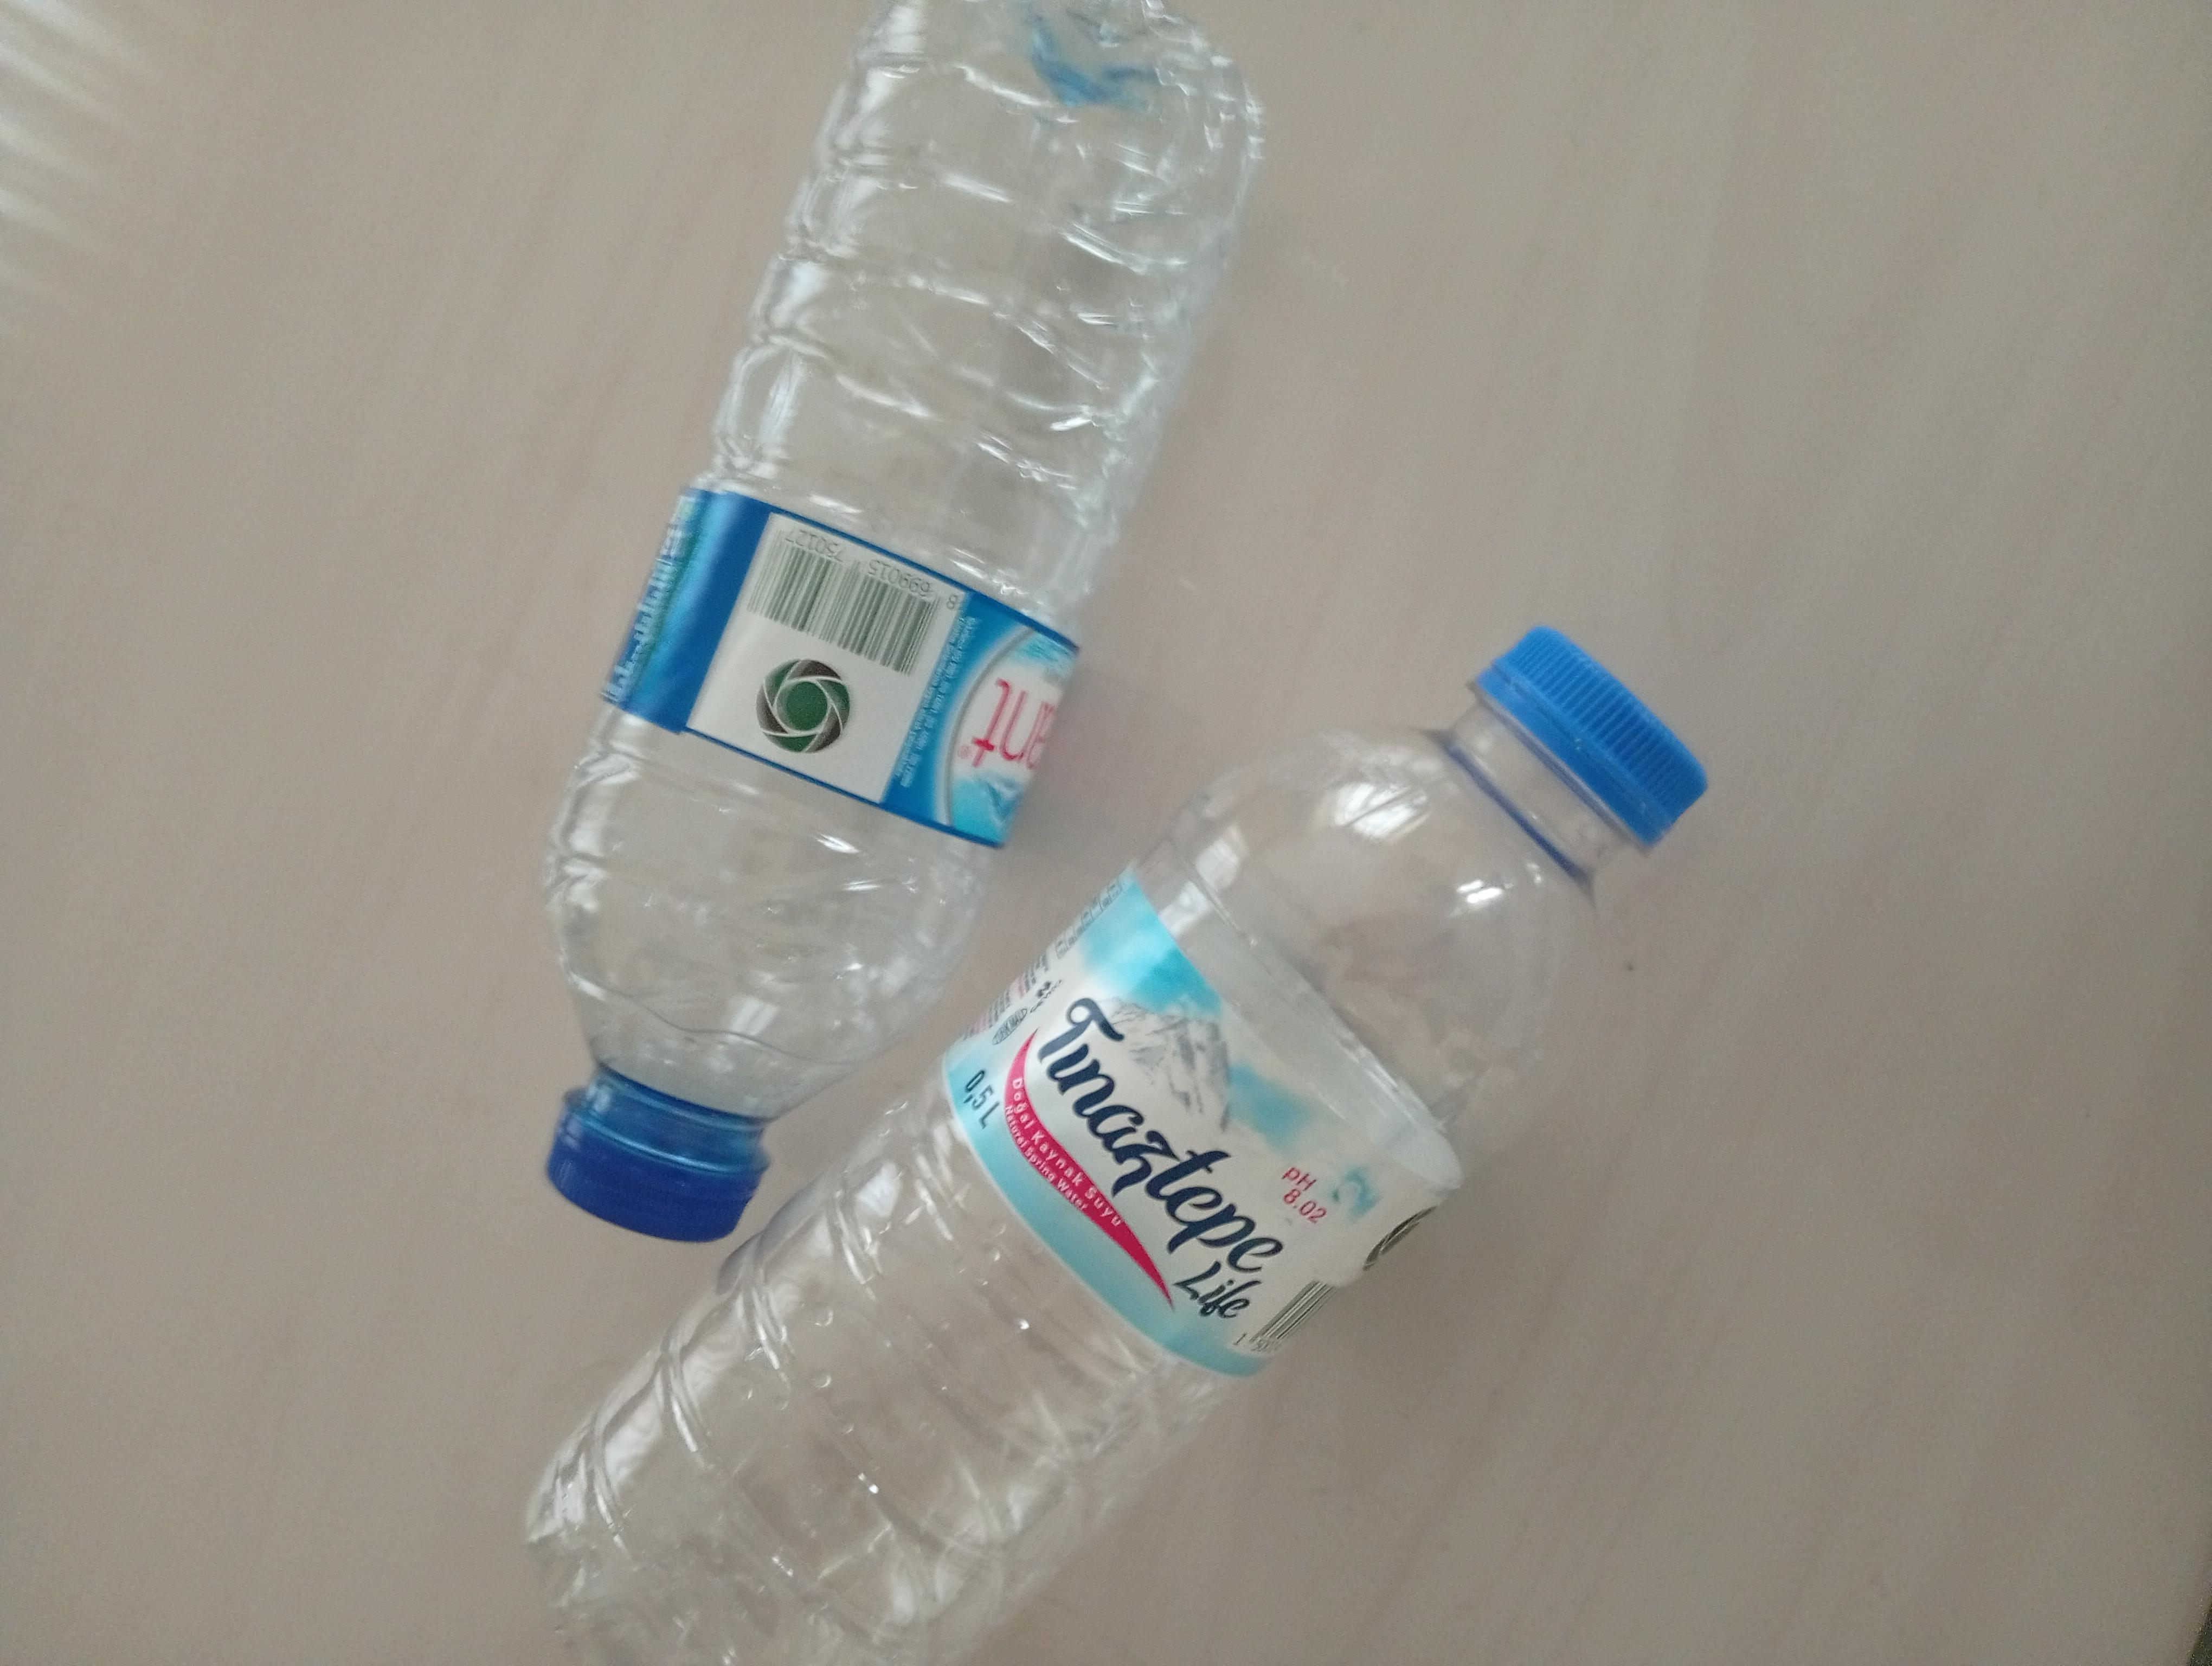etiketli: (516, 611, 1773, 1649), (353, 0, 1280, 1258)
